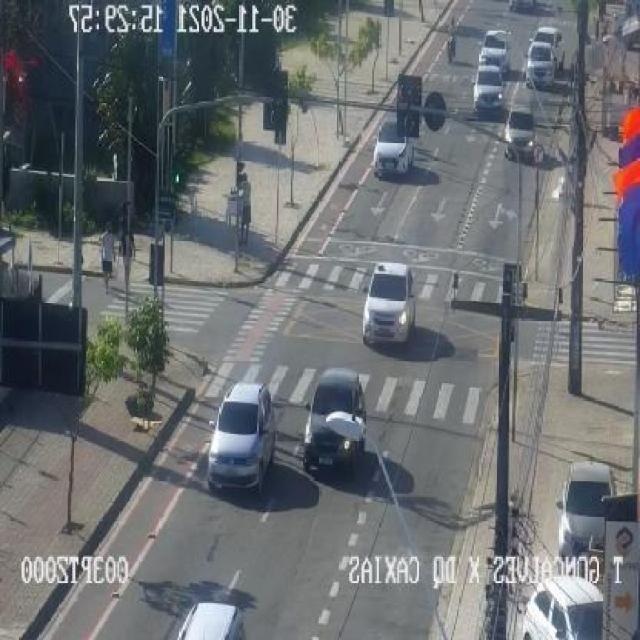Car: (207, 383, 277, 491), (300, 368, 368, 474), (555, 463, 616, 556), (521, 577, 603, 639), (361, 262, 415, 346), (171, 601, 245, 640), (372, 120, 414, 178), (504, 111, 541, 163), (472, 64, 506, 112), (478, 30, 512, 76)
Cycle: (442, 15, 459, 66)
